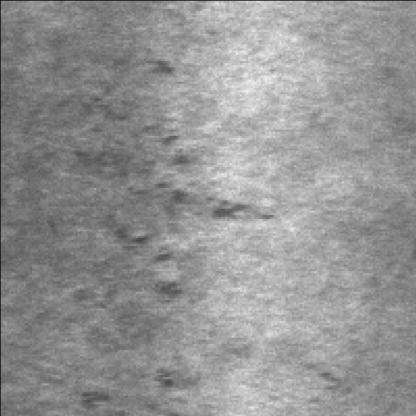rolled-in_scale: (79, 64, 212, 372)
